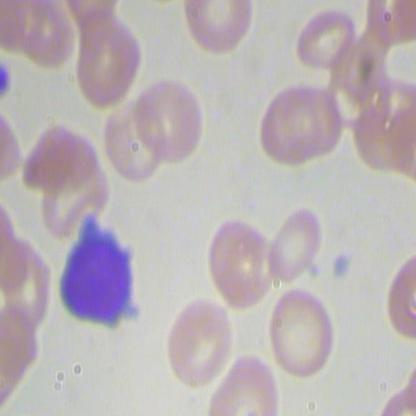RBC: (264, 283, 336, 379), (69, 16, 144, 108), (163, 295, 234, 391), (207, 214, 278, 309), (132, 74, 203, 169), (253, 79, 324, 174), (20, 110, 100, 192), (102, 93, 170, 183), (288, 1, 357, 70), (207, 354, 282, 415), (269, 203, 323, 281), (183, 1, 250, 61)
WBC: (48, 210, 152, 339)
